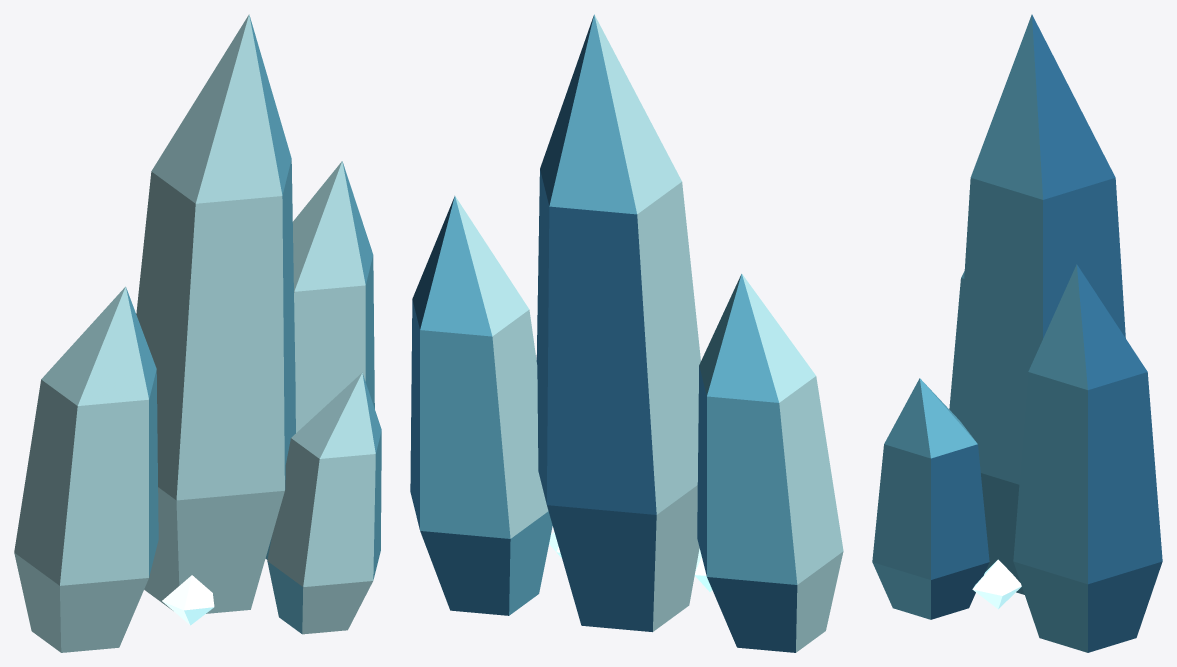
The model's file is CristaisGelo.fbx.
The picture shows the model from 3 angles, left to right: view 1: azimuth 30°, elevation 25°; view 2: azimuth 150°, elevation 25°; view 3: azimuth 270°, elevation 25°; orthographic projection.
Visible parts, largest first — view 1: CristaisGelo_Solido_2, CristaisGelo_Solido_3, CristaisGelo_Folha_4; view 2: CristaisGelo_Solido_1, CristaisGelo_Solido_3, CristaisGelo_Solido_2; view 3: CristaisGelo_Solido_3, CristaisGelo_Solido_1, CristaisGelo_Folha_4.
Boxes of the visible parts, x1,y1,x2,y2 form: CristaisGelo_Solido_2: [14, 14, 375, 652]; CristaisGelo_Solido_3: [126, 16, 381, 633]; CristaisGelo_Folha_4: [162, 575, 214, 625]; CristaisGelo_Solido_1: [410, 16, 797, 652]; CristaisGelo_Solido_3: [420, 14, 797, 615]; CristaisGelo_Solido_2: [455, 14, 843, 652]; CristaisGelo_Solido_3: [872, 14, 1087, 652]; CristaisGelo_Solido_1: [931, 14, 1162, 652]; CristaisGelo_Folha_4: [972, 559, 1021, 609].
Size of the model in its own units: 387 by 570 by 259.
